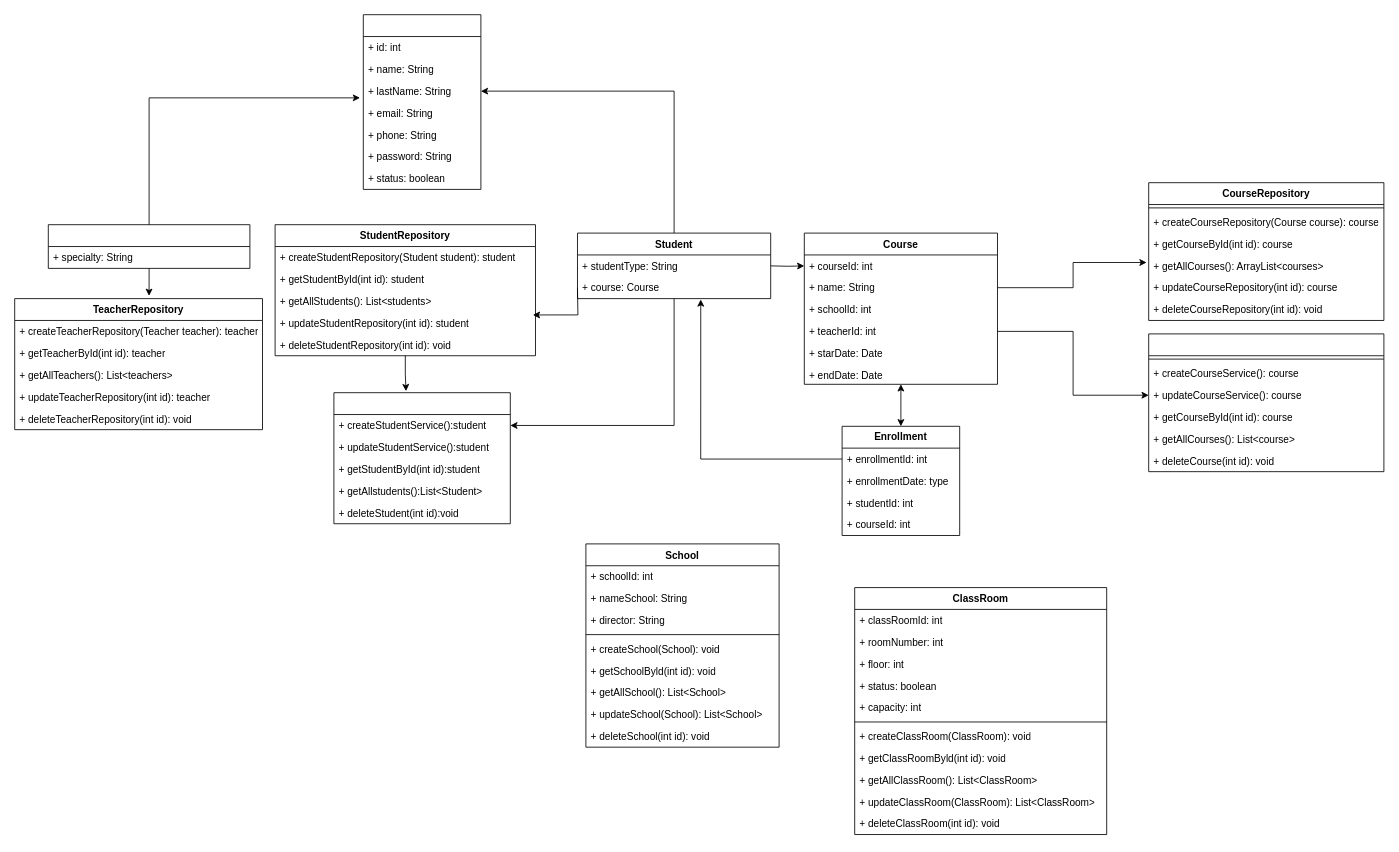
The diagram is 1399 pixels wide and 852 high, and some of its shapes have lost their labels. Each missing label, with the box of its shape:
CourseServiceImpl: (1148, 333, 1384, 472)
StudentServiceImpl: (333, 392, 510, 524)
Teacher: (47, 224, 250, 268)
User: (362, 14, 481, 189)
